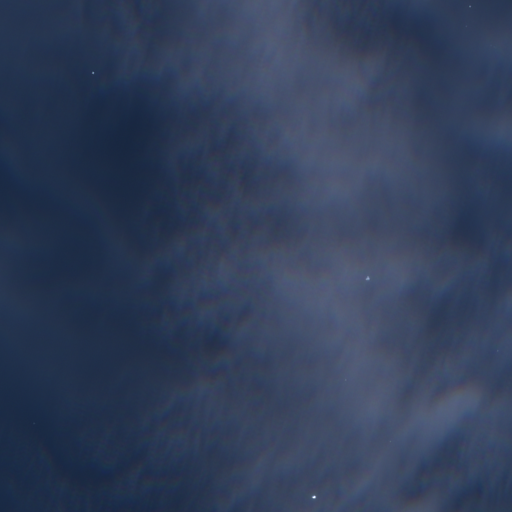Iceberg: (312, 495, 316, 498), (366, 276, 369, 279), (92, 71, 94, 73), (469, 5, 470, 7)
